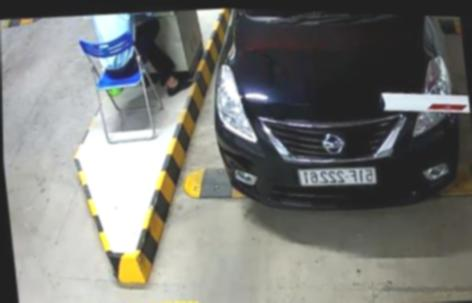License_Plate: (297, 159, 378, 195)
